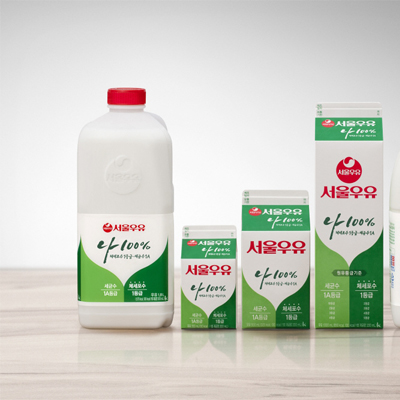milk: (180, 102, 382, 330), (76, 87, 175, 329)
